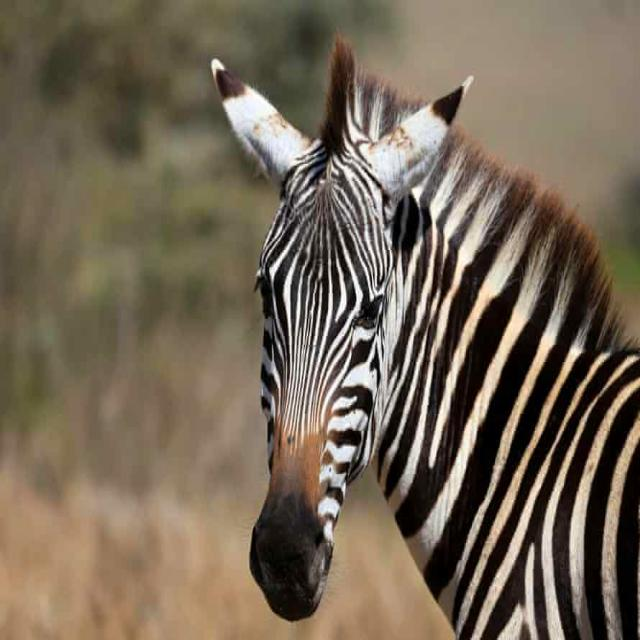zebra: (211, 41, 639, 639)
